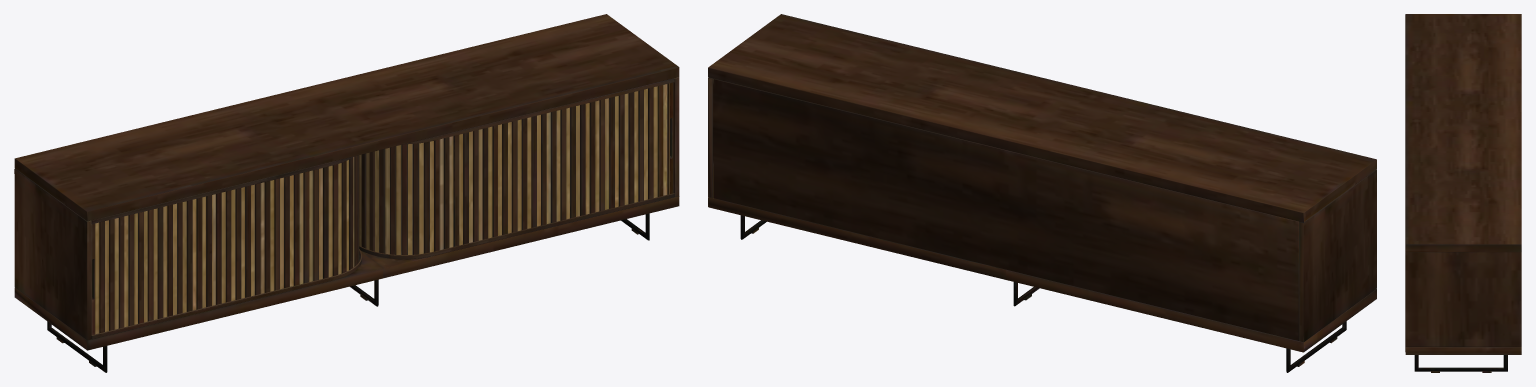
The model's file is modern_wooden_cabinet.glb.
3 views of the same model, side by side, from view 1: azimuth 30°, elevation 25°; view 2: azimuth 150°, elevation 25°; view 3: azimuth 270°, elevation 25° (orthographic). The views are drawn at different scales.
Parts seen in each view (by area): view 1: modern_wooden_cabinet_body, modern_wooden_cabinet_door_l; view 2: modern_wooden_cabinet_body; view 3: modern_wooden_cabinet_body.
Boxes of the visible parts, x1=… form: modern_wooden_cabinet_body: x1=14, y1=14, x2=679, y2=372; modern_wooden_cabinet_door_l: x1=91, y1=82, x2=673, y2=334; modern_wooden_cabinet_body: x1=708, y1=14, x2=1376, y2=372; modern_wooden_cabinet_body: x1=1405, y1=14, x2=1521, y2=372.
Bounding box in the file's own units: 2.44 × 0.6801 × 0.5201.
Materials: 1 (1 with a texture image).
